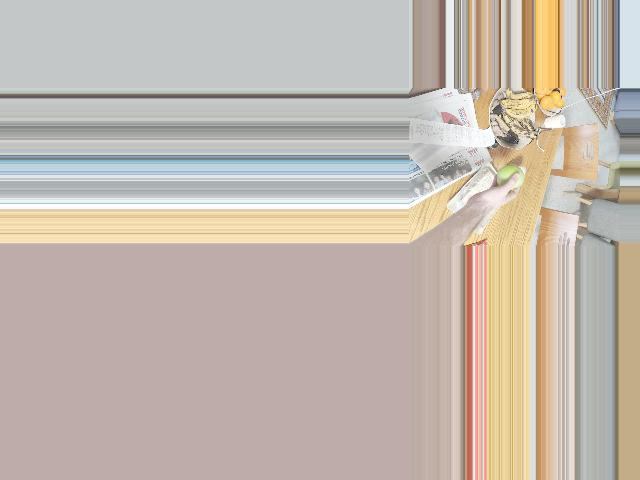apple: (495, 164, 524, 190)
